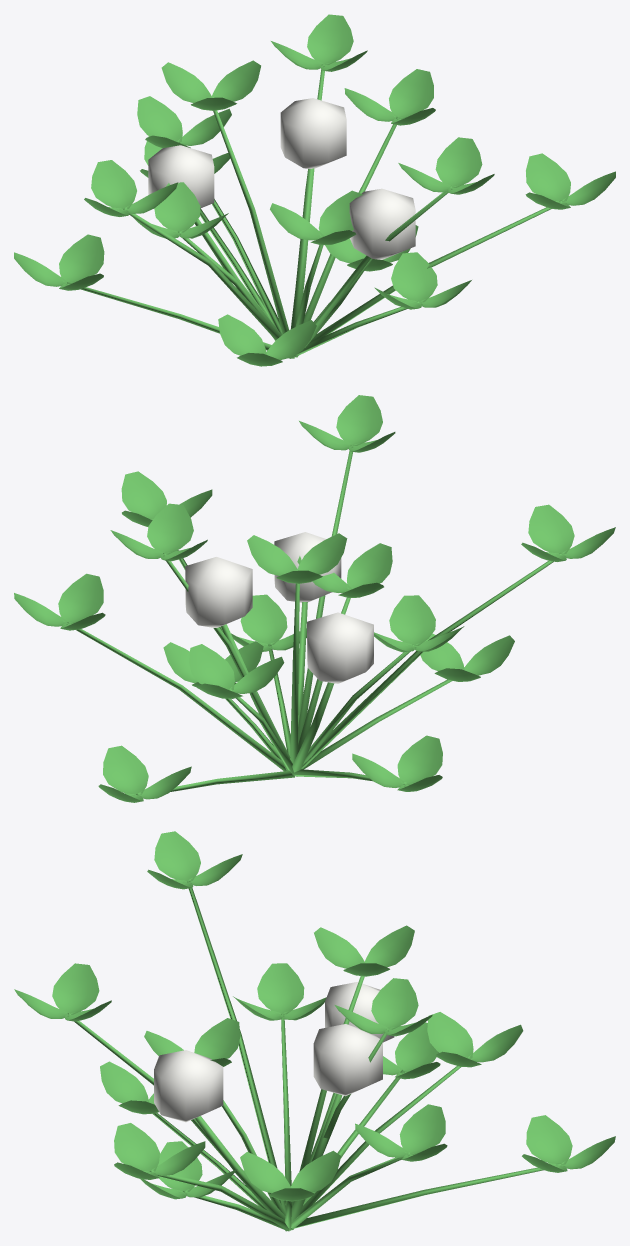
Rendered from grass_white_clover.glb.
3 views of the same model, one above another, from view 1: azimuth 30°, elevation 25°; view 2: azimuth 150°, elevation 25°; view 3: azimuth 270°, elevation 25° (orthographic).
Parts seen in each view (by area): view 1: Flora_White_Clover; view 2: Flora_White_Clover; view 3: Flora_White_Clover.
Part boxes in pixels (left/top/right/bottom): Flora_White_Clover: left=14, top=14, right=615, bottom=366; Flora_White_Clover: left=14, top=395, right=615, bottom=802; Flora_White_Clover: left=14, top=831, right=615, bottom=1231.
Size of the model in its own units: 0.5219 by 0.2604 by 0.5277.
